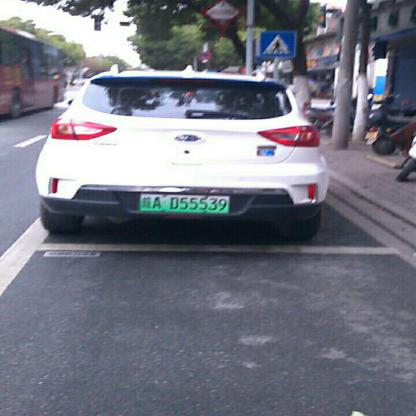lp: (140, 193, 228, 212)
